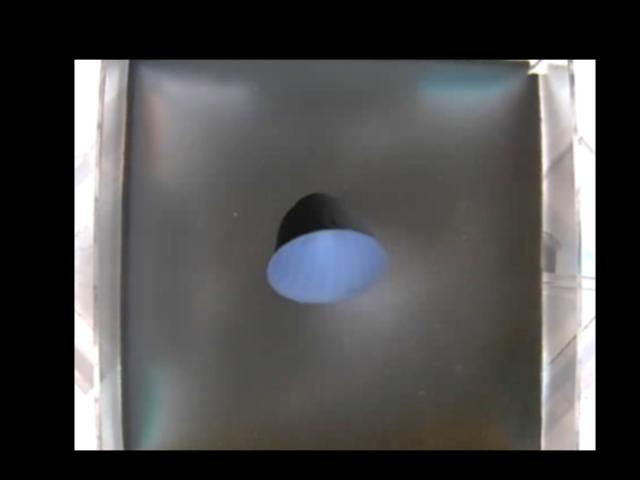Cup: (269, 193, 388, 305)
